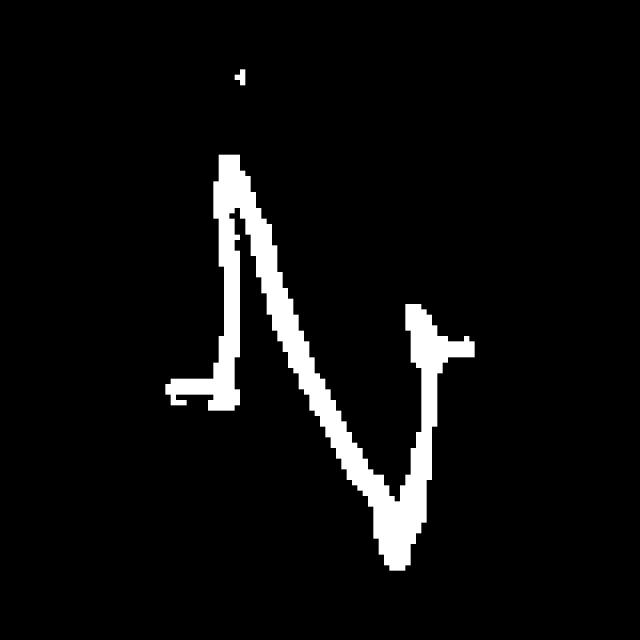resistor: (206, 135, 444, 589)
